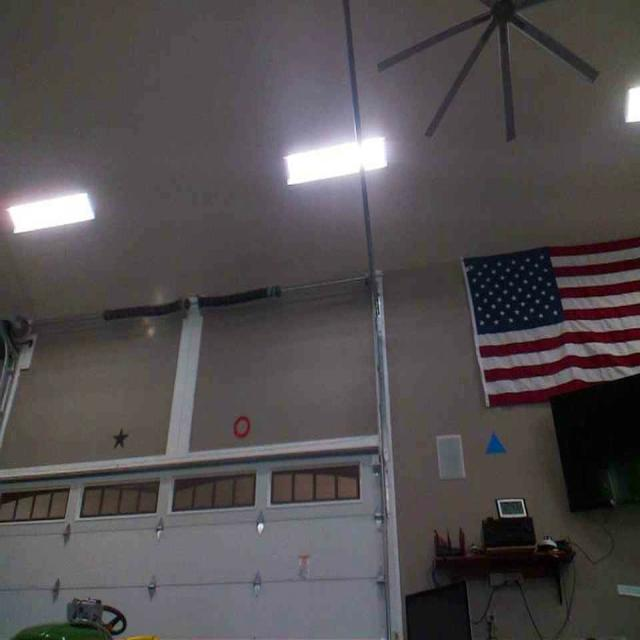ring_red: (233, 415, 250, 438)
star_black: (112, 426, 130, 448)
triangle_blue: (486, 432, 506, 452)
